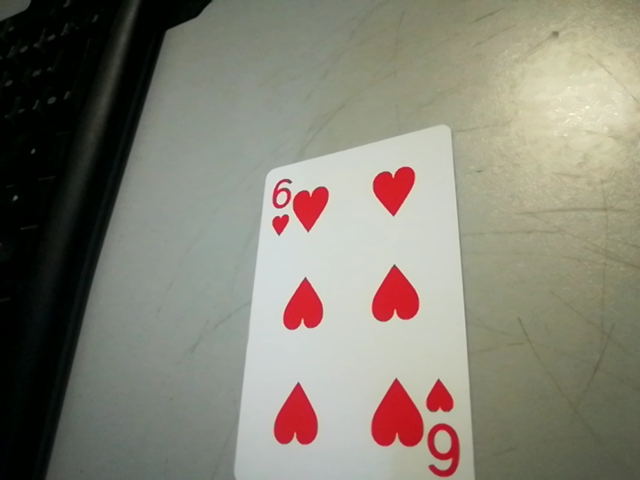hx 6: (422, 372, 470, 480)
